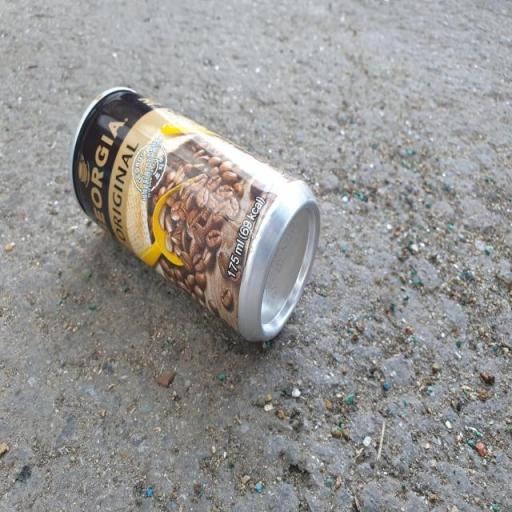metal: (57, 62, 352, 366)
